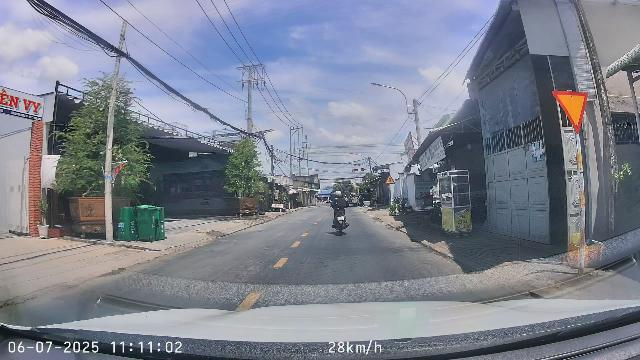208-giao-nhau-voi-duong-uu-tien: (553, 90, 588, 133)
